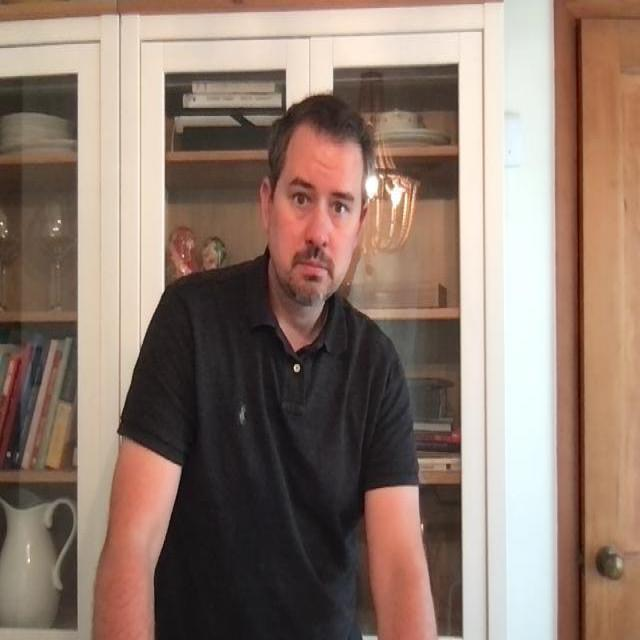face: (259, 92, 376, 309)
